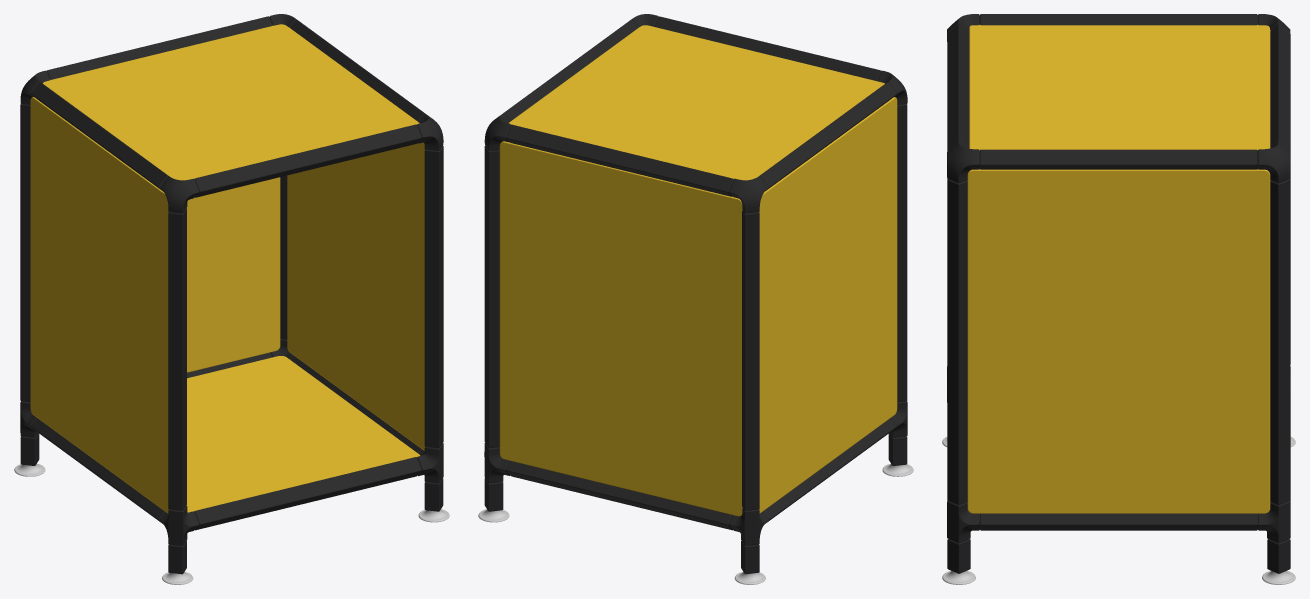
3 renders of one model, left to right at view 1: azimuth 30°, elevation 25°; view 2: azimuth 150°, elevation 25°; view 3: azimuth 270°, elevation 25°, orthographic. The views are drawn at different scales.
Parts seen in each view (by area): view 1: 329x329x420; view 2: 329x329x420; view 3: 329x329x420.
Part boxes in pixels (x1,y1,x2,y2): 329x329x420: (14, 14, 449, 584); 329x329x420: (478, 14, 913, 584); 329x329x420: (942, 14, 1295, 584).
Size of the model in its own units: 0.4189 by 0.5593 by 0.4182.
